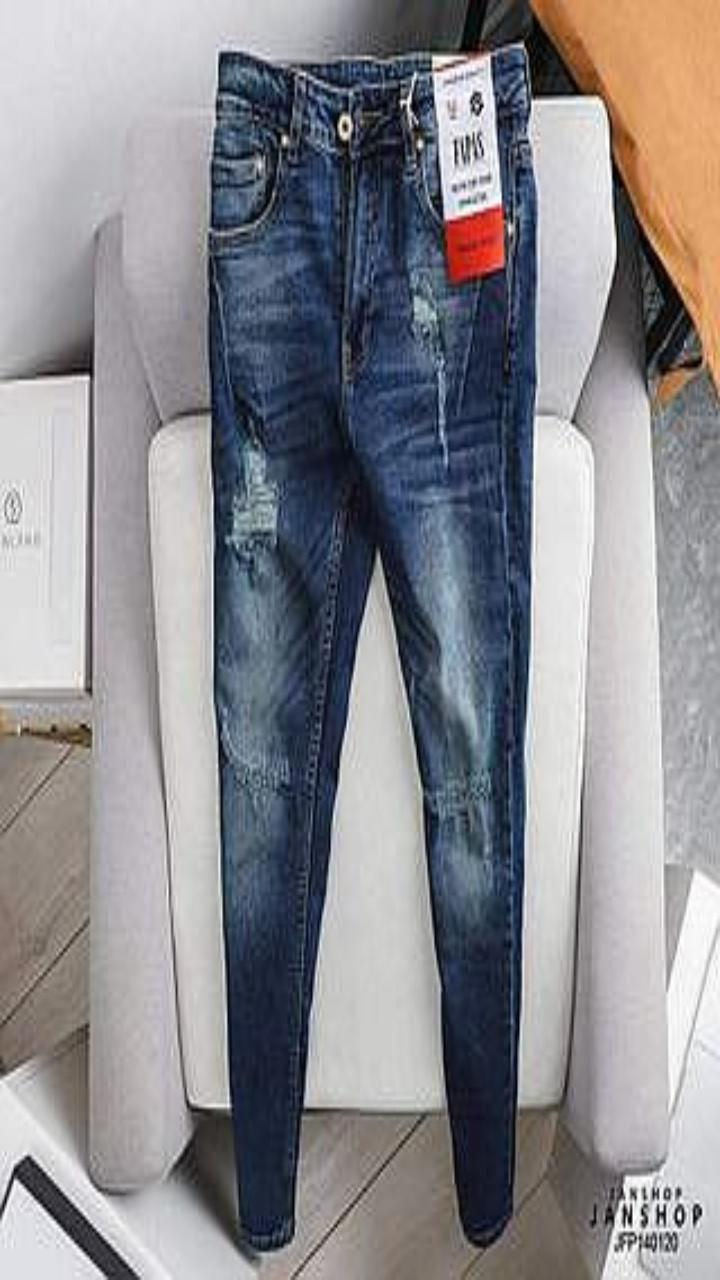Jeans: (209, 46, 535, 1249)
